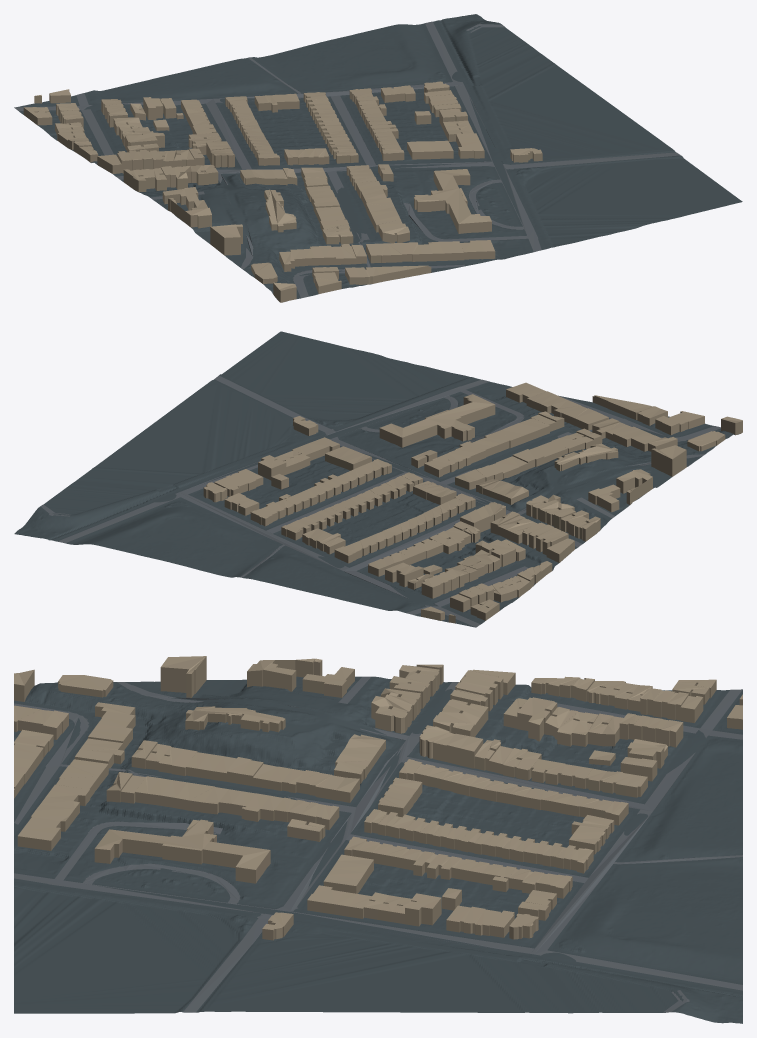
The model's file is epsg26910-1436-10873.lod0.glb.
The picture shows the model from 3 angles, top to bottom: view 1: azimuth 30°, elevation 25°; view 2: azimuth 150°, elevation 25°; view 3: azimuth 270°, elevation 25°; orthographic projection. The views are drawn at different scales.
Parts seen in each view (by area): view 1: epsg26910-1436-10873-lod0; view 2: epsg26910-1436-10873-lod0; view 3: epsg26910-1436-10873-lod0.
Boxes of the visible parts, x1,y1,x2,y2 form: epsg26910-1436-10873-lod0: (14, 14, 742, 302); epsg26910-1436-10873-lod0: (14, 331, 742, 627); epsg26910-1436-10873-lod0: (14, 656, 742, 1023).
Size of the model in its own units: 384 by 34.87 by 384.
